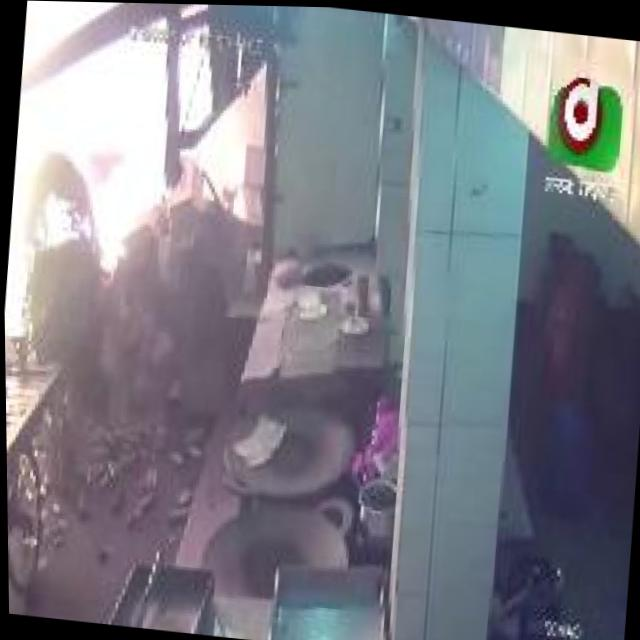fire: (0, 0, 260, 364)
